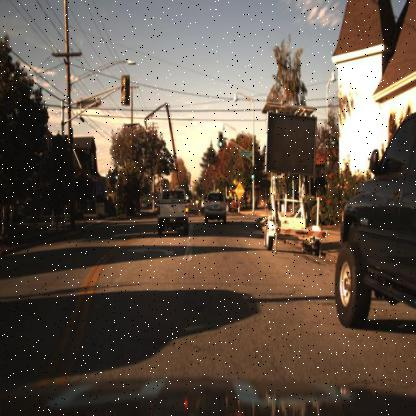car: (334, 108, 416, 338), (156, 183, 191, 236), (202, 189, 230, 225)
trafficLight-Green: (113, 165, 120, 188), (216, 132, 224, 152), (112, 162, 119, 181), (250, 165, 256, 183)
